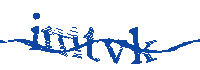j: (30, 11, 42, 52)
k: (128, 26, 157, 66)
m: (41, 23, 83, 60)
t: (82, 24, 102, 63)
v: (100, 35, 125, 66)
